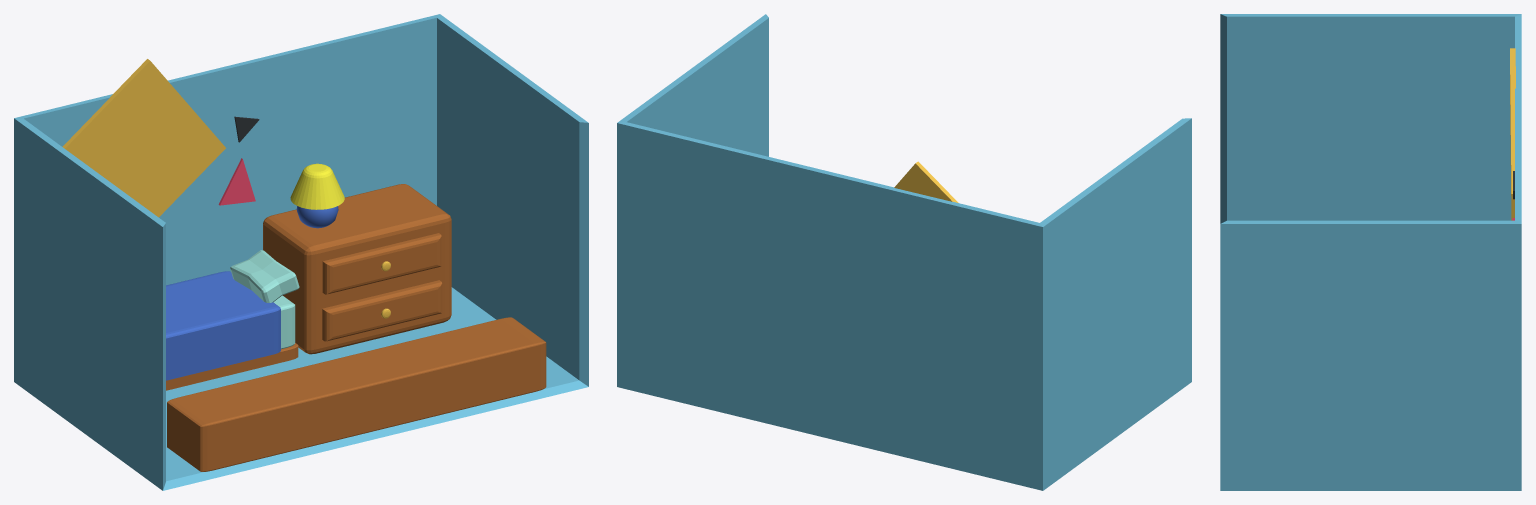
File: habitacion_mesa.glb
The picture shows the model from 3 angles, left to right: view 1: azimuth 30°, elevation 25°; view 2: azimuth 150°, elevation 25°; view 3: azimuth 270°, elevation 25°; orthographic projection.
Parts seen in each view (by area): view 1: Habitación; view 2: Habitación; view 3: Habitación.
Boxes of the visible parts, box(x1,y1,x2,y2) form: Habitación: box(14, 14, 588, 490); Habitación: box(617, 14, 1191, 490); Habitación: box(1220, 14, 1521, 490).
Size of the model in its own units: 16.39 by 10.8 by 9.92.
